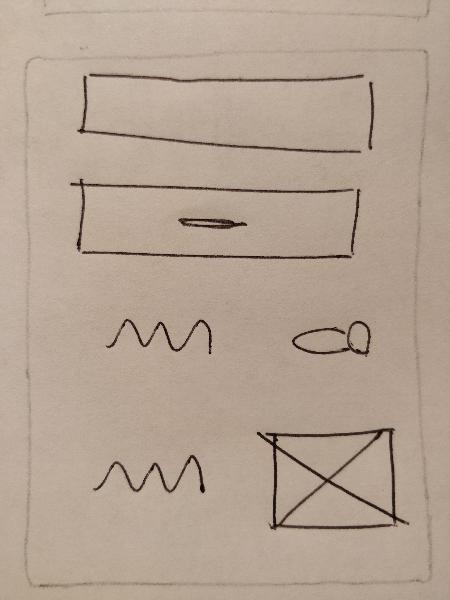button: (67, 176, 370, 276)
image: (251, 424, 416, 533)
switch: (282, 314, 376, 366)
text: (86, 440, 214, 512), (96, 306, 220, 365)
text_input: (75, 65, 380, 166)
